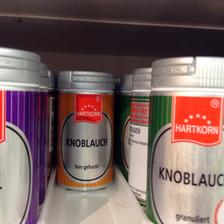Gewuerze: (142, 54, 222, 222), (54, 70, 114, 190)
